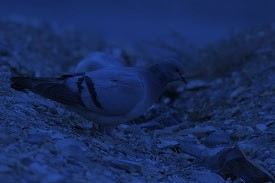pigeon: (9, 58, 191, 137)
